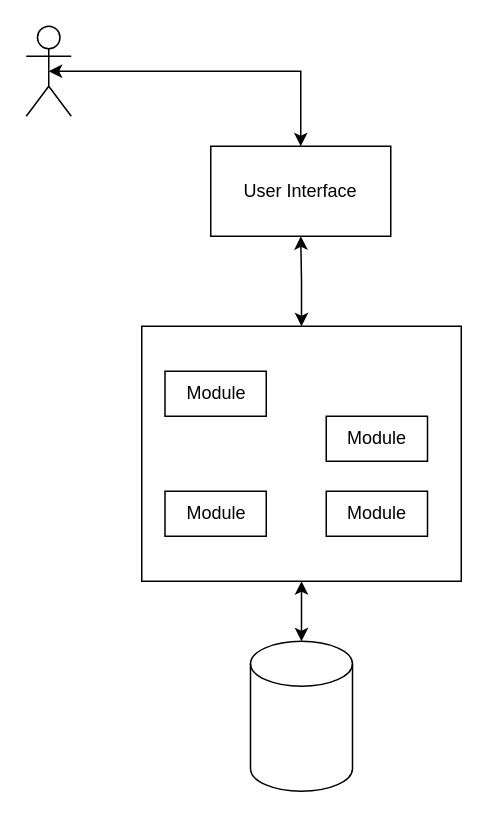
The diagram is 488 pixels wide and 818 high, and some of its shapes have lost their labels. Here are the shapes that lost their labels. From the top down, the box of each, then its label:
(25, 25, 71, 116): Actor
(249, 640, 352, 791): Data Store
